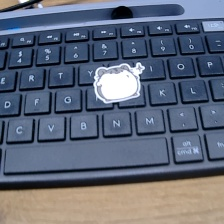mouse: (93, 57, 152, 110)
